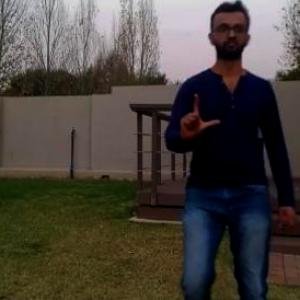land_hand: (172, 88, 224, 148)
